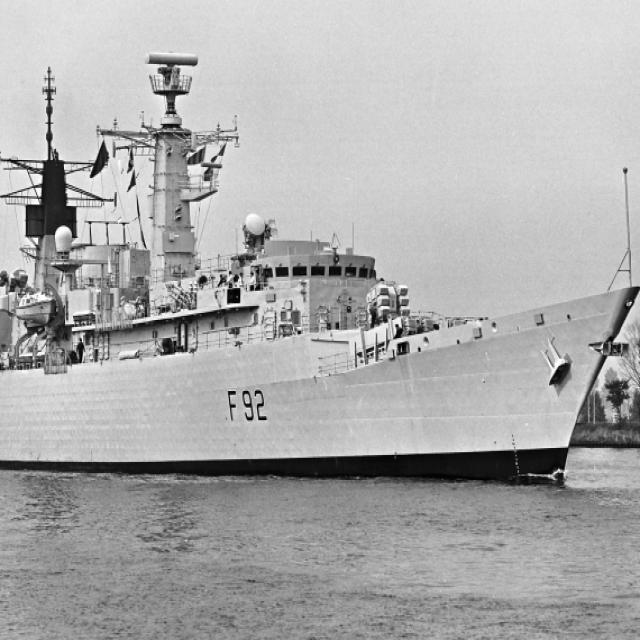Fragata: (1, 44, 640, 499)
